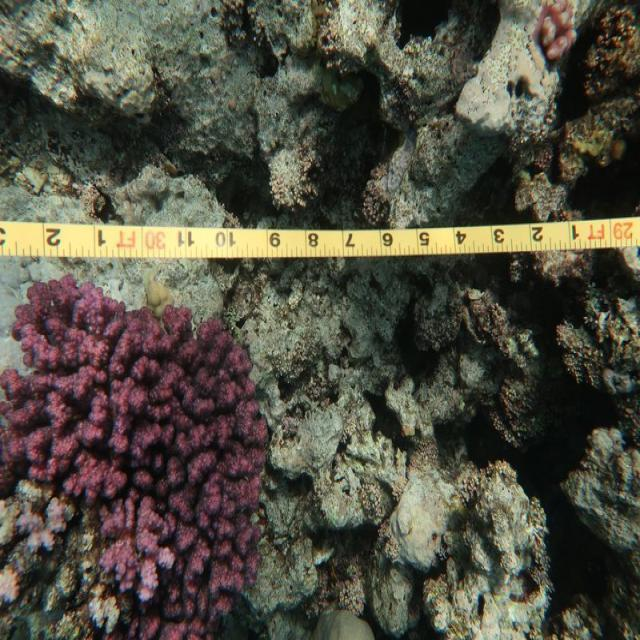Healthy Coral: (1, 266, 274, 640)
